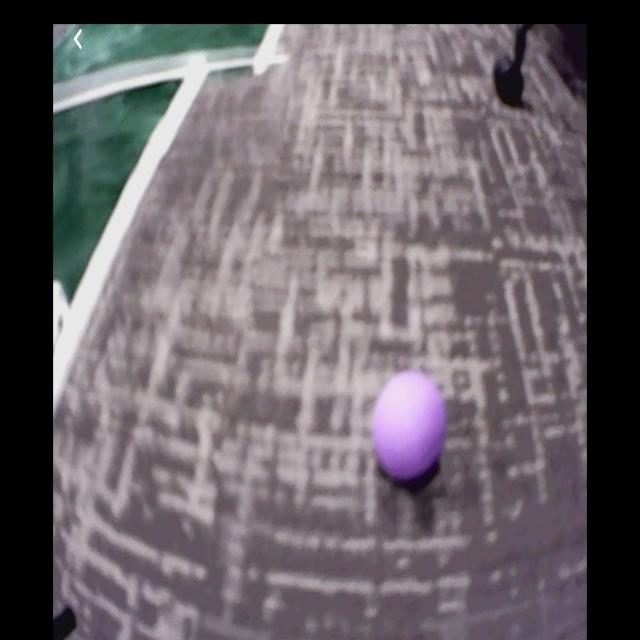ball: (376, 373, 446, 480)
